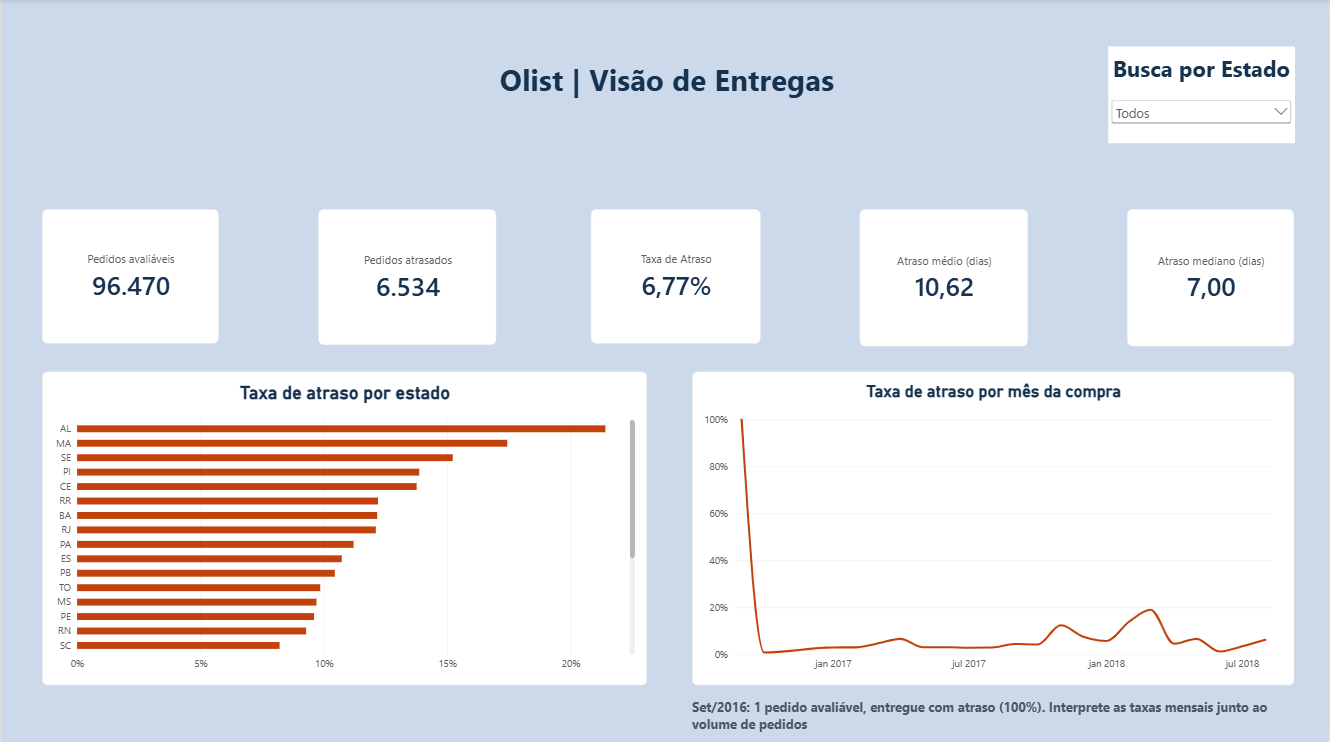

Layout of this report page (visuals, bound fields, positions):
{"tool":"powerbi","page":{"name":"Entregas","canvas":[1920,1080],"ordinal":1},"visuals":[{"type":"cardVisual","fields":{"Data":["pedidos.Pedidos Avaliaveis Cartao"]},"box":[57.9,304,257,195.4],"z":0},{"type":"cardVisual","fields":{"Data":["pedidos.Pedidos Atrasados Cartao"]},"box":[457.8,304,258.8,197.3],"z":1000},{"type":"cardVisual","fields":{"Data":["pedidos.Taxa de Atraso"]},"box":[852.4,304,246.1,195.4],"z":2000},{"type":"clusteredBarChart","title":"Taxa de atraso por estado","fields":{"Category":["clientes.customer_state"],"Y":["pedidos.Taxa de Atraso"]},"box":[57.9,539.3,875.9,454.2],"z":3000},{"type":"cardVisual","fields":{"Data":["pedidos.Media Dias de Atraso"]},"box":[1241.4,304,244.3,199.1],"z":4000},{"type":"cardVisual","fields":{"Data":["pedidos.Mediana Dias de Atraso"]},"box":[1628.7,304,242.5,199.1],"z":5000},{"type":"lineChart","title":"Taxa de atraso por mês da compra","fields":{"Category":["pedidos.Mes da Compra"],"Y":["pedidos.Taxa de Atraso"]},"box":[998.9,539.3,872.3,454.2],"z":5001},{"type":"textbox","box":[541.1,68.8,843.3,86.9],"z":5003},{"type":"slicer","title":"Busca por Estado","fields":{"Values":["clientes.customer_state"]},"box":[1601.5,68.8,270,140],"z":5004},{"type":"textbox","box":[998.9,1011.6,872.3,68.8],"z":5005}]}

Visuals, with their boxes in screenshot pixels (x1, y1, x2, y2), scaled from the page's 1920x1080 canvas onto the 1330x742 screenshot:
cardVisual - pedidos.Pedidos Avaliaveis Cartao: box=[40, 209, 218, 343]
cardVisual - pedidos.Pedidos Atrasados Cartao: box=[317, 209, 496, 344]
cardVisual - pedidos.Taxa de Atraso: box=[590, 209, 761, 343]
"Taxa de atraso por estado" clusteredBarChart: box=[40, 371, 647, 683]
cardVisual - pedidos.Media Dias de Atraso: box=[860, 209, 1029, 346]
cardVisual - pedidos.Mediana Dias de Atraso: box=[1128, 209, 1296, 346]
"Taxa de atraso por mês da compra" lineChart: box=[692, 371, 1296, 683]
textbox: box=[375, 47, 959, 107]
"Busca por Estado" slicer: box=[1109, 47, 1296, 143]
textbox: box=[692, 695, 1296, 741]
